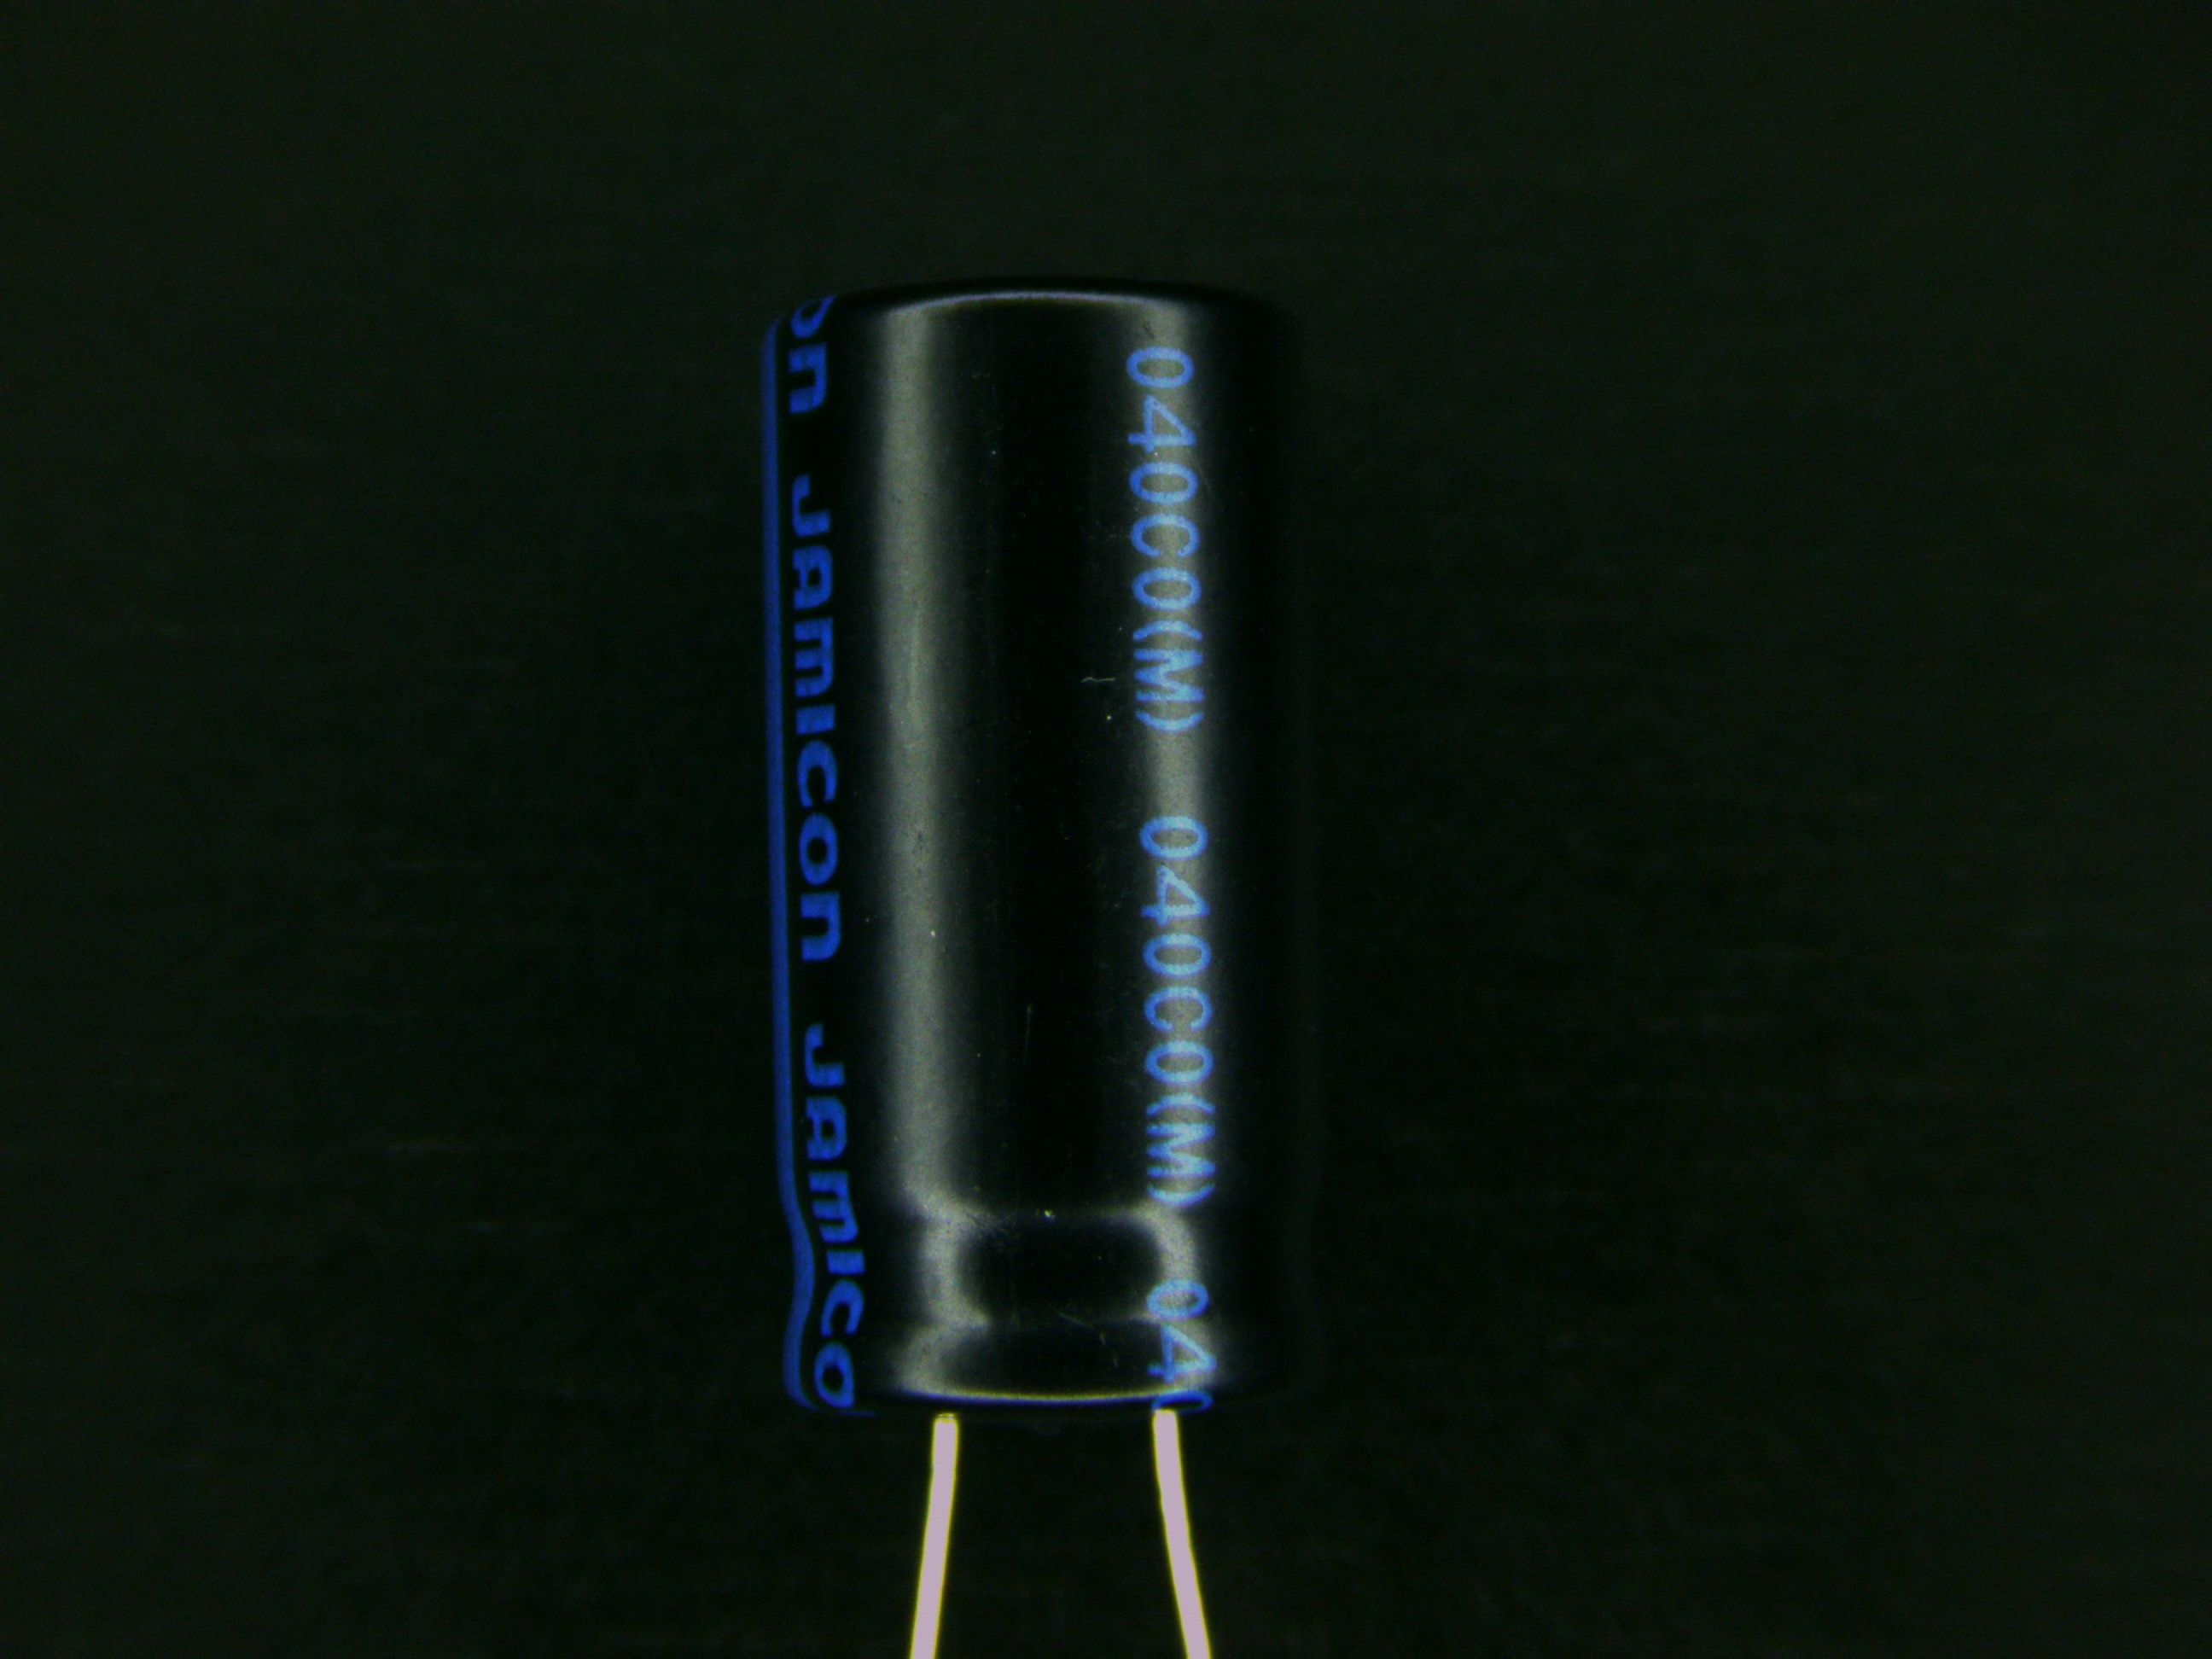c2: (754, 274, 1329, 1490)
